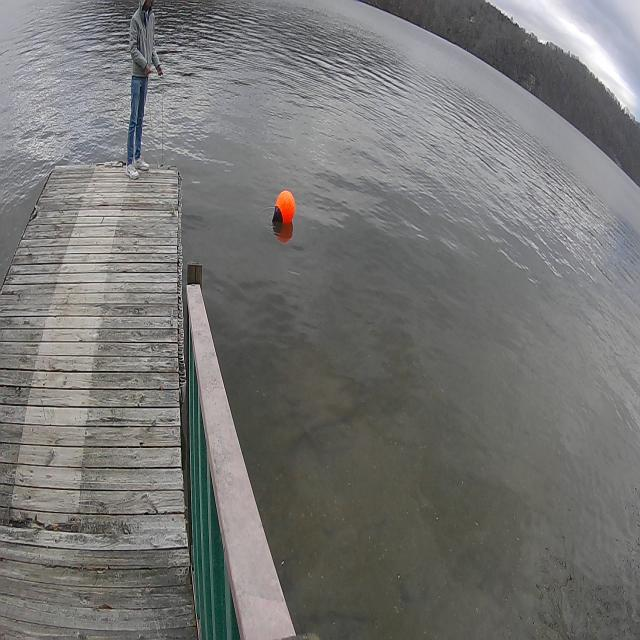Buoy: (272, 180, 298, 242)
